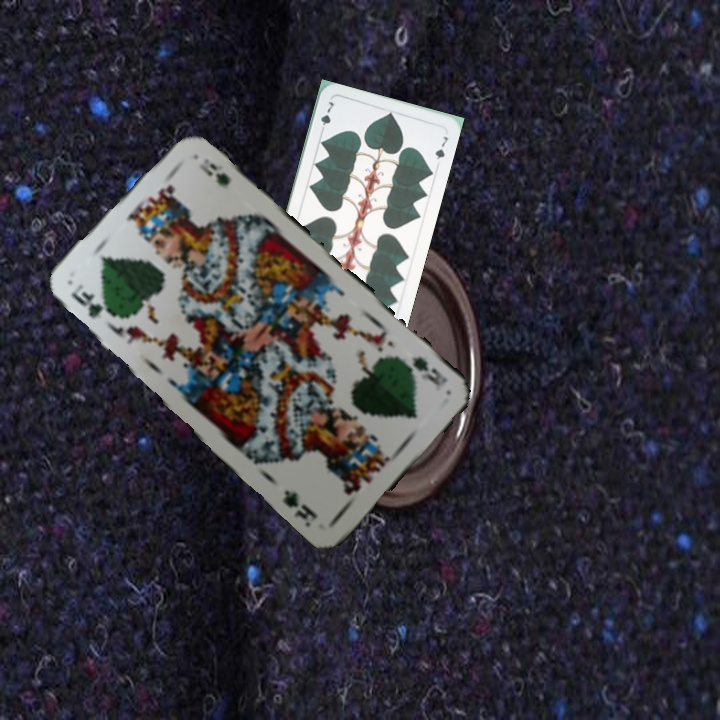G7: (316, 97, 337, 136)
GK: (398, 352, 451, 389), (66, 287, 117, 321)
